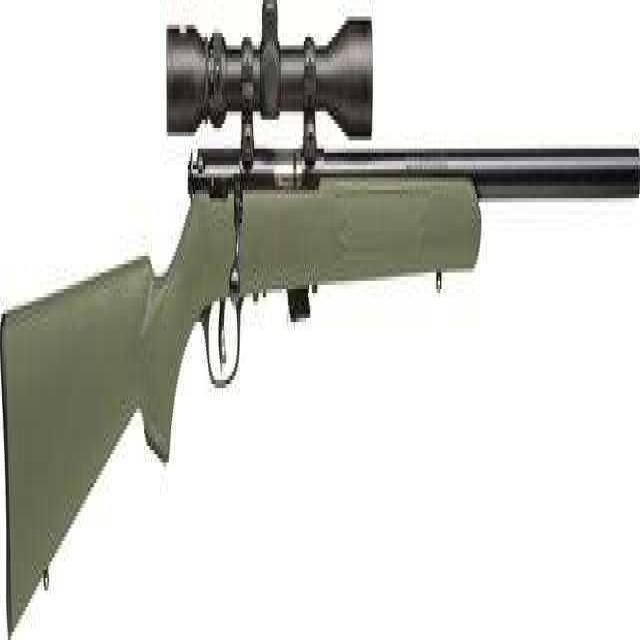Rifle: (0, 8, 639, 640)
